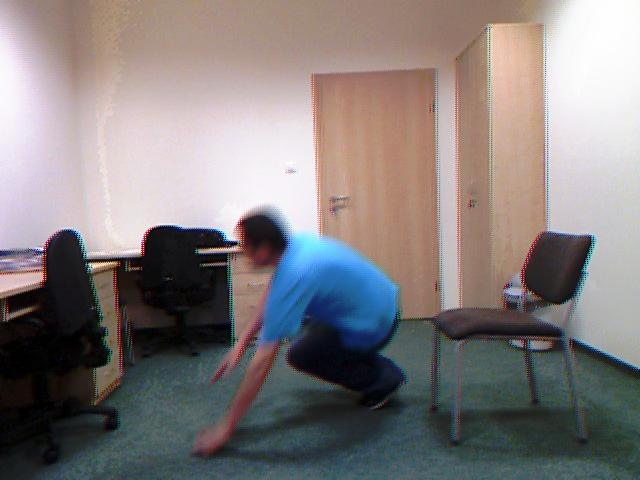fall: (190, 203, 416, 464)
